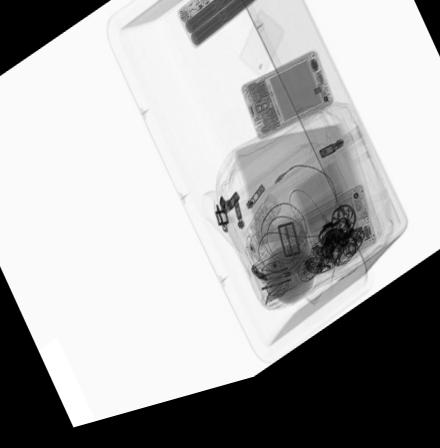Powerbank: (172, 0, 261, 64)
